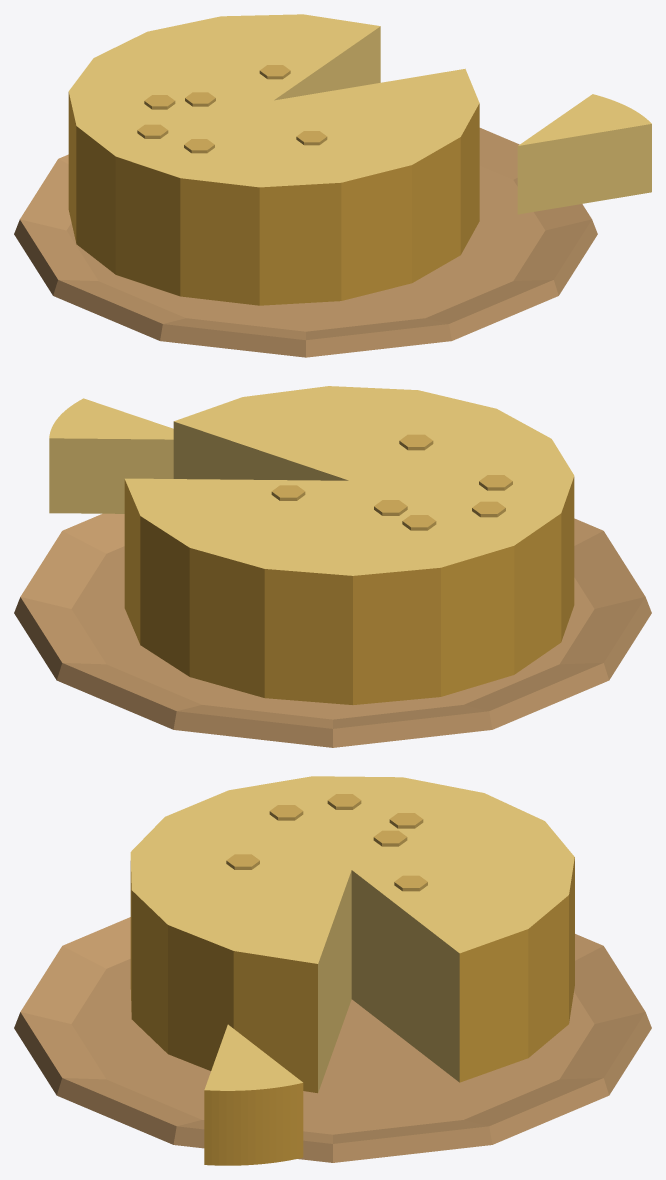
Rendered from cheese_wheel.glb.
3 views of the same model, one above another, from view 1: azimuth 30°, elevation 25°; view 2: azimuth 150°, elevation 25°; view 3: azimuth 270°, elevation 25° (orthographic). The views are drawn at different scales.
Visible parts, largest first — view 1: Food, Wood; view 2: Food, Wood; view 3: Food, Wood.
Part boxes in pixels (x1=…): Food: x1=68, y1=14, x2=651, y2=305; Wood: x1=14, y1=128, x2=597, y2=357; Food: x1=49, y1=386, x2=574, y2=704; Wood: x1=14, y1=513, x2=651, y2=747; Food: x1=130, y1=776, x2=574, y2=1165; Wood: x1=14, y1=917, x2=651, y2=1162.
Size of the model in its own units: 1.82 by 0.51 by 1.7.
Materials: 2 (2 with a texture image).
